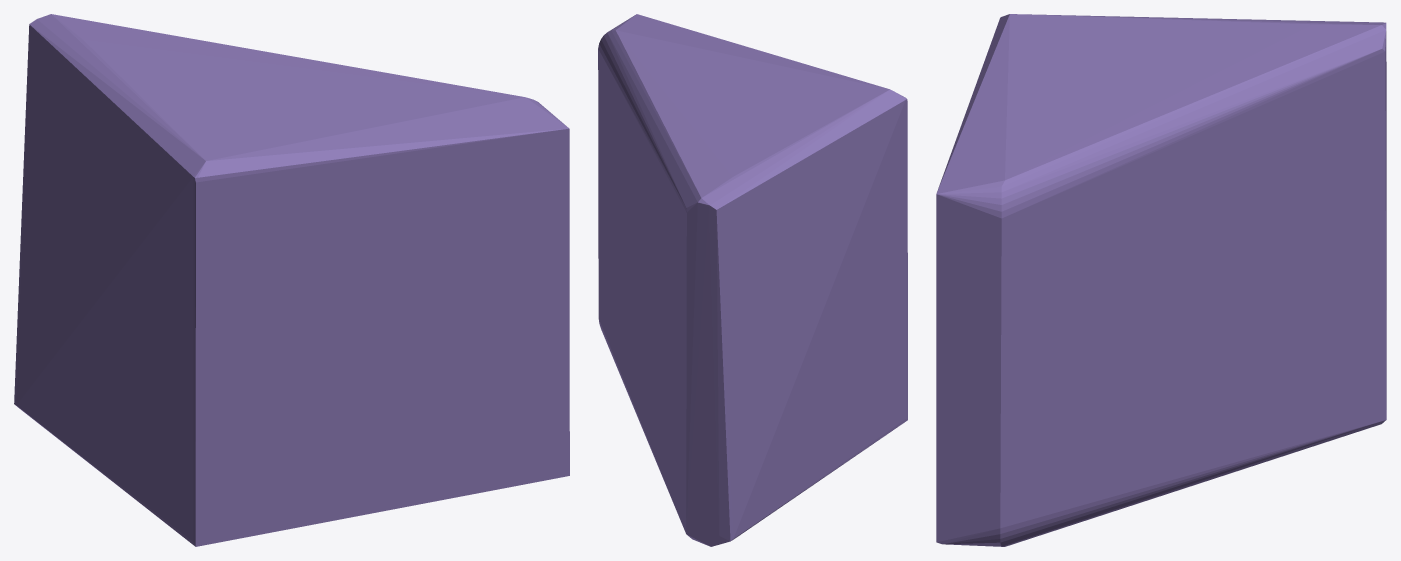
The model's file is screen_hospital_b09.glb.
3 renders of one model, left to right at view 1: azimuth 30°, elevation 25°; view 2: azimuth 150°, elevation 25°; view 3: azimuth 270°, elevation 25°, orthographic. The views are drawn at different scales.
Visible parts, largest first — view 1: geometry_0; view 2: geometry_0; view 3: geometry_0.
Boxes of the visible parts, x1=… form: geometry_0: x1=14, y1=14, x2=569, y2=546; geometry_0: x1=598, y1=14, x2=907, y2=546; geometry_0: x1=936, y1=14, x2=1386, y2=546.
Bounding box in the file's own units: 0.4363 × 0.4643 × 0.4799.
